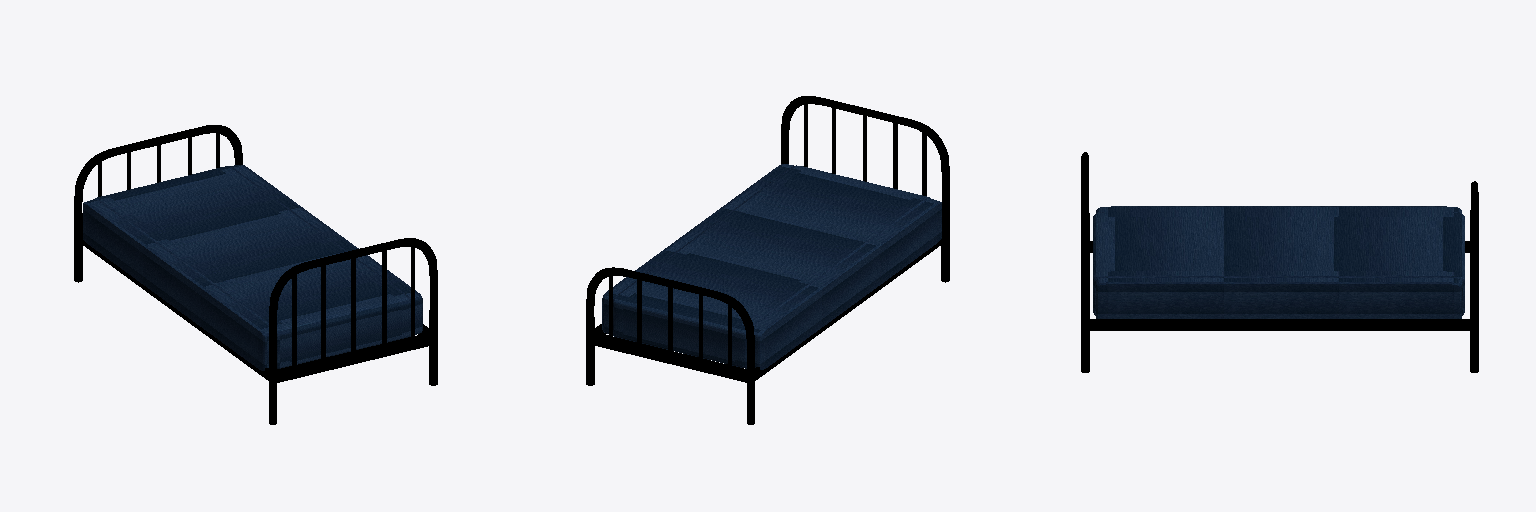
3 renders of one model, left to right at view 1: azimuth 30°, elevation 25°; view 2: azimuth 150°, elevation 25°; view 3: azimuth 270°, elevation 25°, orthographic.
Parts seen in each view (by area): view 1: Box001, Cylinder001; view 2: Box001, Cylinder001; view 3: Box001, Cylinder001.
Part boxes in pixels (left/top/right/bottom): Box001: left=83, top=165, right=422, bottom=370; Cylinder001: left=74, top=125, right=437, bottom=424; Box001: left=602, top=164, right=941, bottom=369; Cylinder001: left=586, top=96, right=949, bottom=424; Box001: left=1093, top=206, right=1464, bottom=318; Cylinder001: left=1081, top=152, right=1478, bottom=372.
Size of the model in its own units: 8.84 by 7.69 by 18.15.
2 materials, 1 textured.